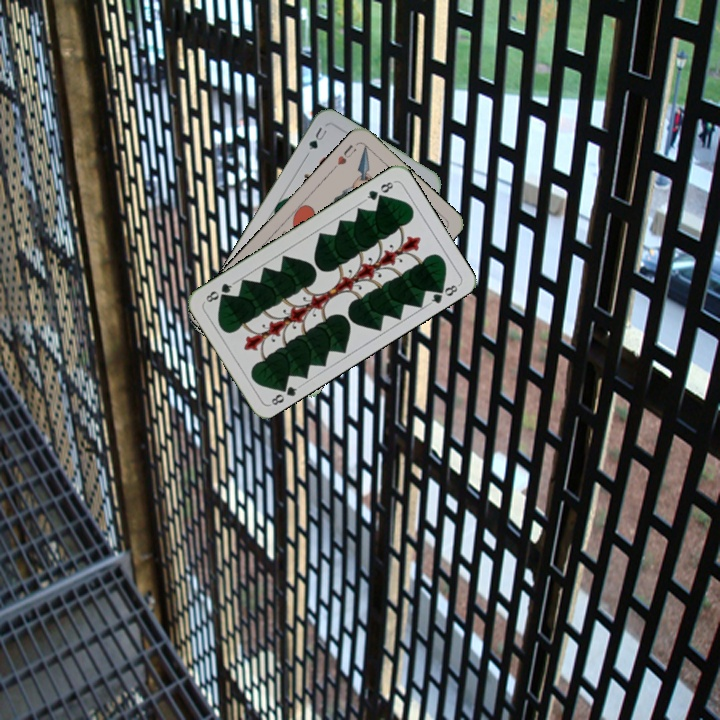G8: (266, 378, 303, 408), (361, 177, 397, 204)
GU: (305, 123, 330, 152)
HU: (328, 140, 359, 173)
